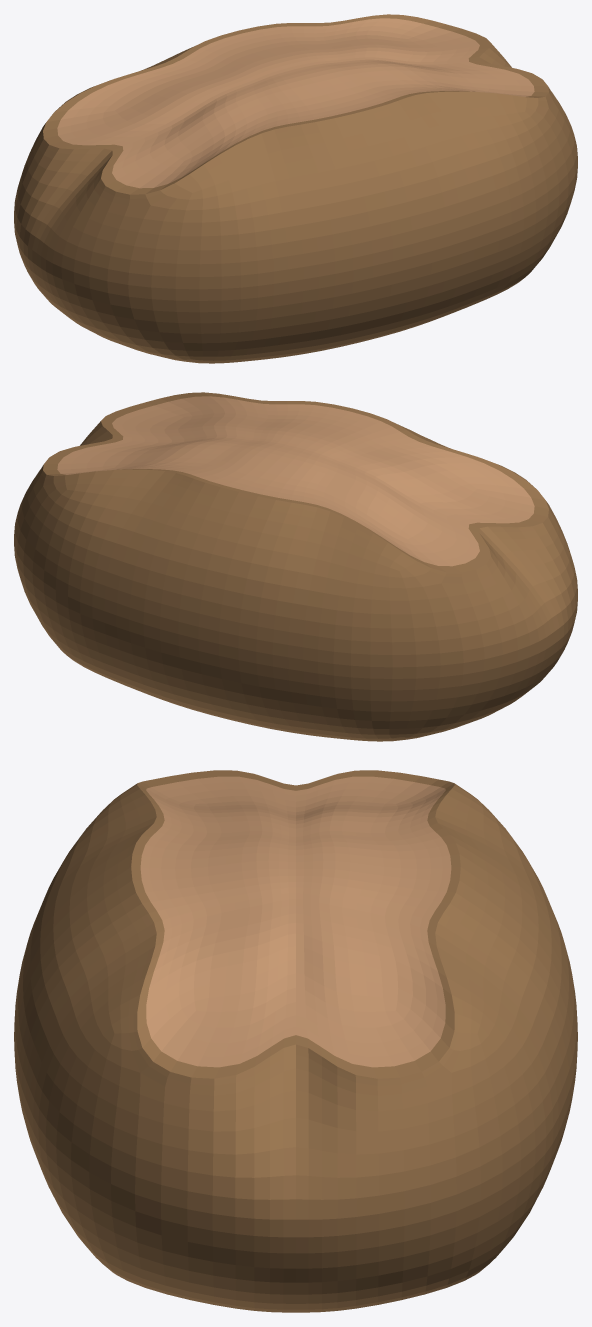
The model's file is brötchen normal.fbx.
3 renders of one model, top to bottom at view 1: azimuth 30°, elevation 25°; view 2: azimuth 150°, elevation 25°; view 3: azimuth 270°, elevation 25°, orthographic. The views are drawn at different scales.
Visible parts, largest first — view 1: Cube; view 2: Cube; view 3: Cube.
Part boxes in pixels (x1,y1,x2,y2): Cube: (14, 14, 577, 363); Cube: (14, 392, 577, 741); Cube: (14, 770, 577, 1312).
Bounding box in the file's own units: 59.49 × 27.8 × 38.73.
